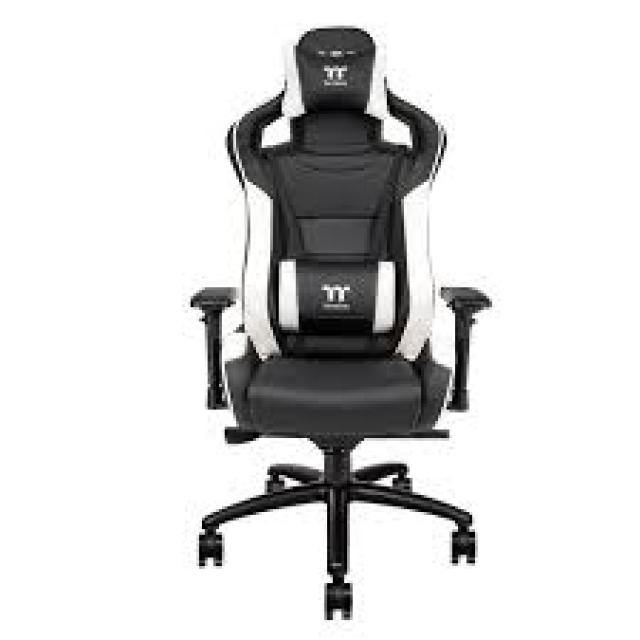chair: (139, 0, 545, 640)
